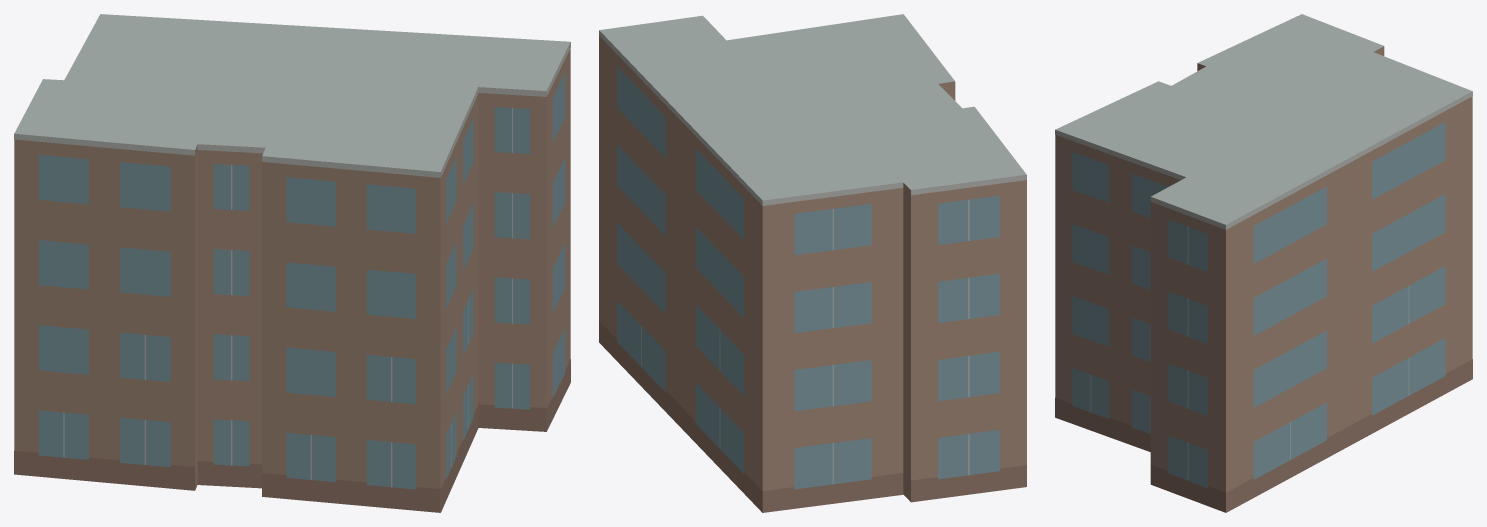
The model's file is survey-upis-33029688.glb.
The picture shows the model from 3 angles, left to right: view 1: azimuth 30°, elevation 25°; view 2: azimuth 150°, elevation 25°; view 3: azimuth 270°, elevation 25°; orthographic projection. The views are drawn at different scales.
Parts seen in each view (by area): view 1: survey-upis-33029688.tmp; view 2: survey-upis-33029688.tmp; view 3: survey-upis-33029688.tmp.
Part boxes in pixels (bbox=[...]): survey-upis-33029688.tmp: bbox=[14, 14, 570, 512]; survey-upis-33029688.tmp: bbox=[599, 14, 1026, 512]; survey-upis-33029688.tmp: bbox=[1055, 14, 1472, 512].
Size of the model in its own units: 22.48 by 14.3 by 18.81.
